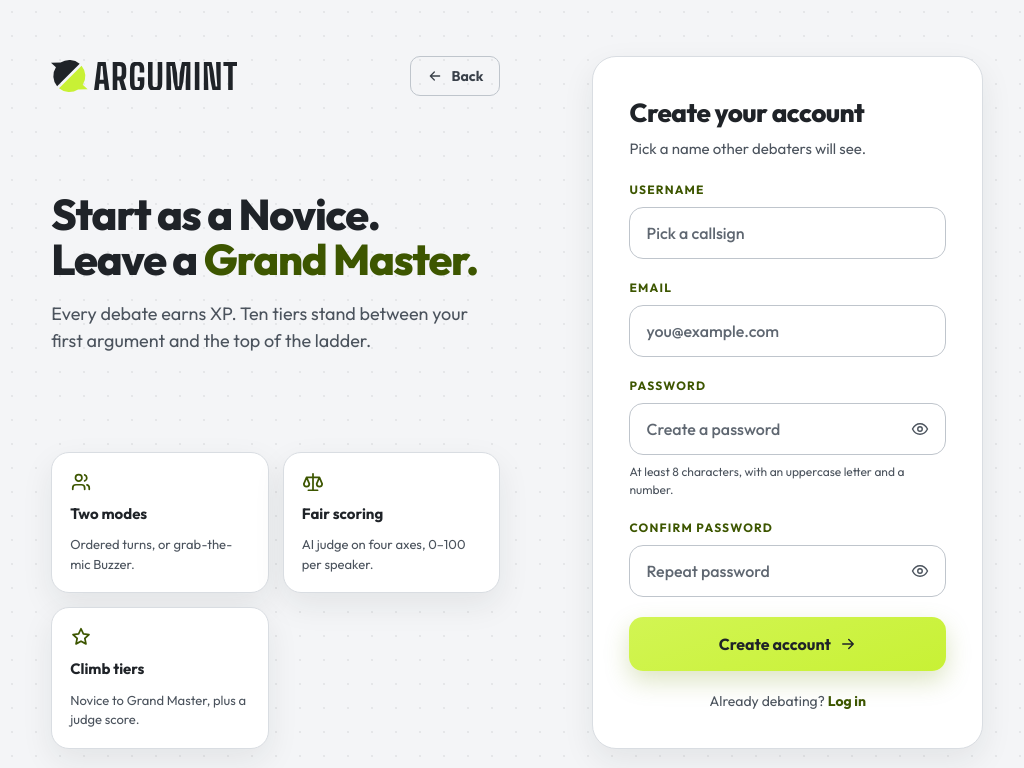
Test: Register › form validation › shows '3–30 characters' for too-short username
Type "ab" into the field with placeholder "Pick a callsign" at (788, 232), box [630,206,946,258]
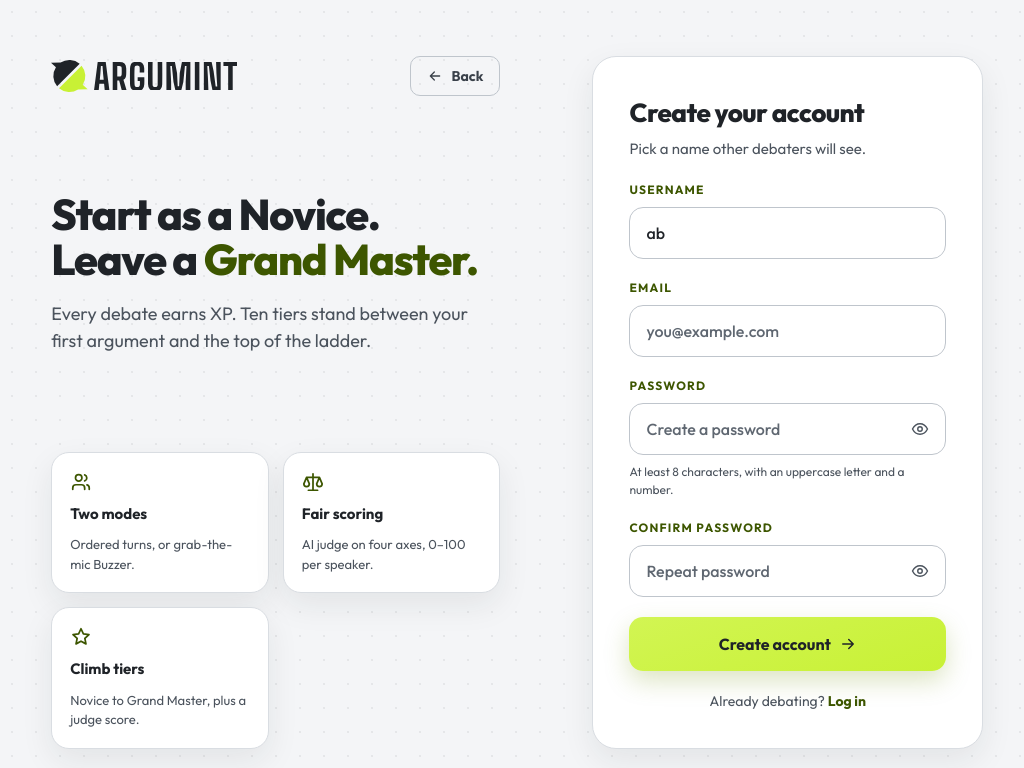
Type "alice@example.com" into the field with placeholder "you@example.com" at (788, 330), box [630,304,946,356]
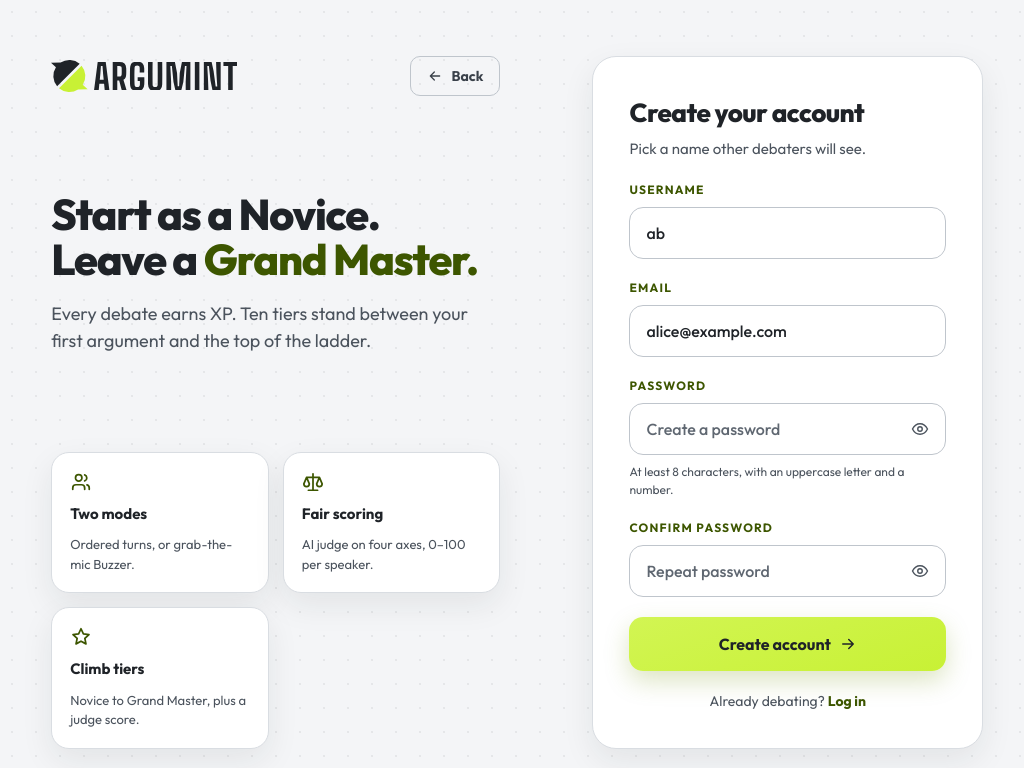
Type "Password1" into the password field with placeholder "Create a password" at (788, 428), box [630,402,946,454]
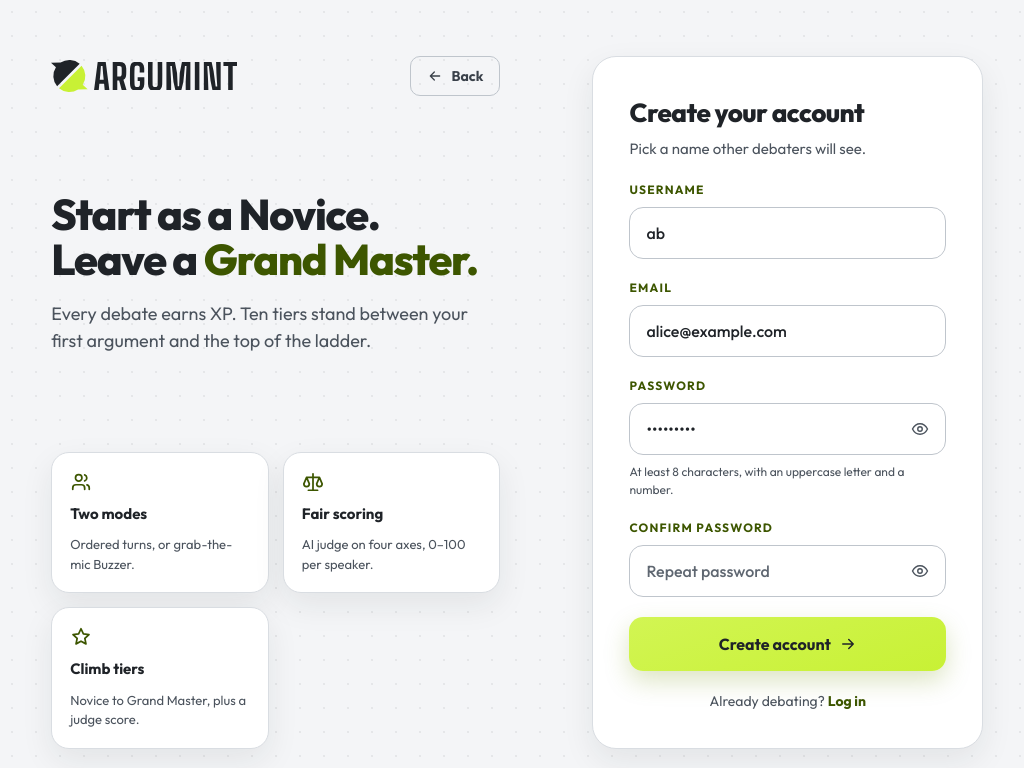
Type "Password1" into the password field with placeholder "Repeat password" at (788, 570), box [630,544,946,596]
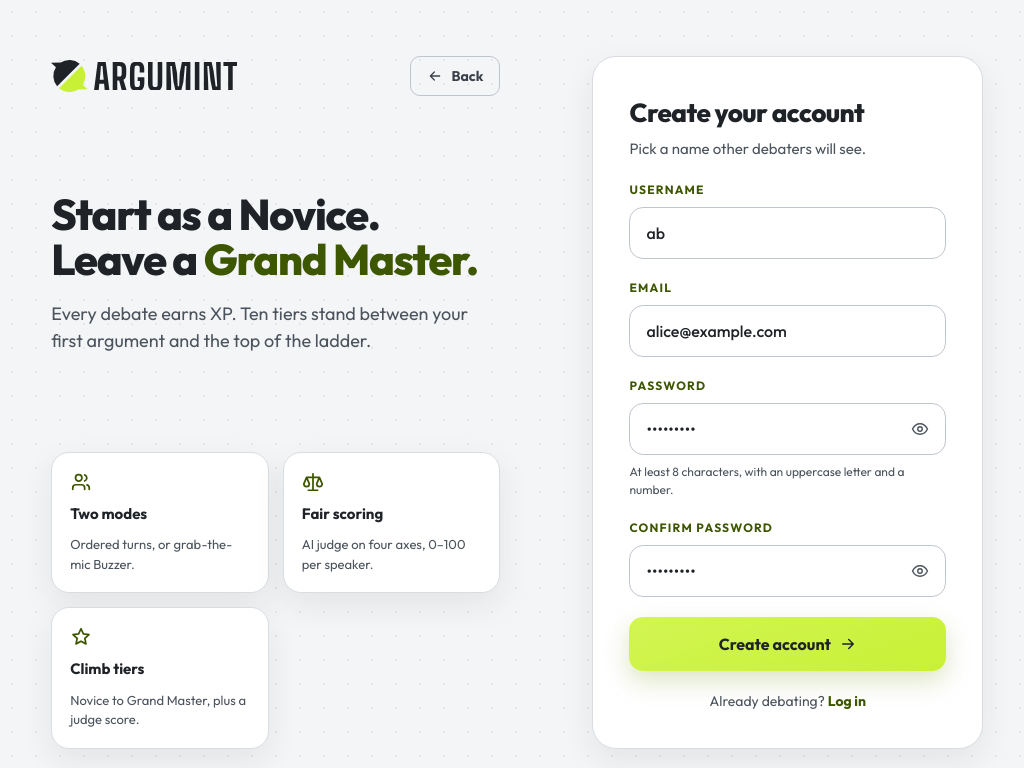
Click the button "Create account" at (788, 644), box [630,616,946,670]
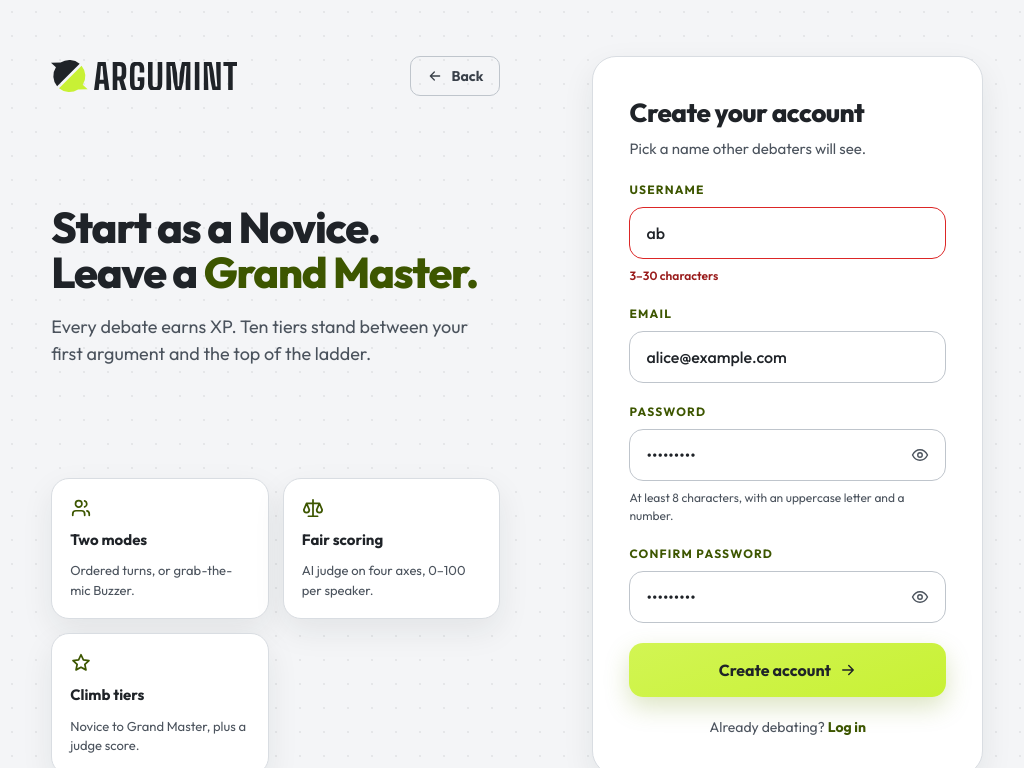
Now the text "3–30 characters" is shown, box [630,268,718,282]
